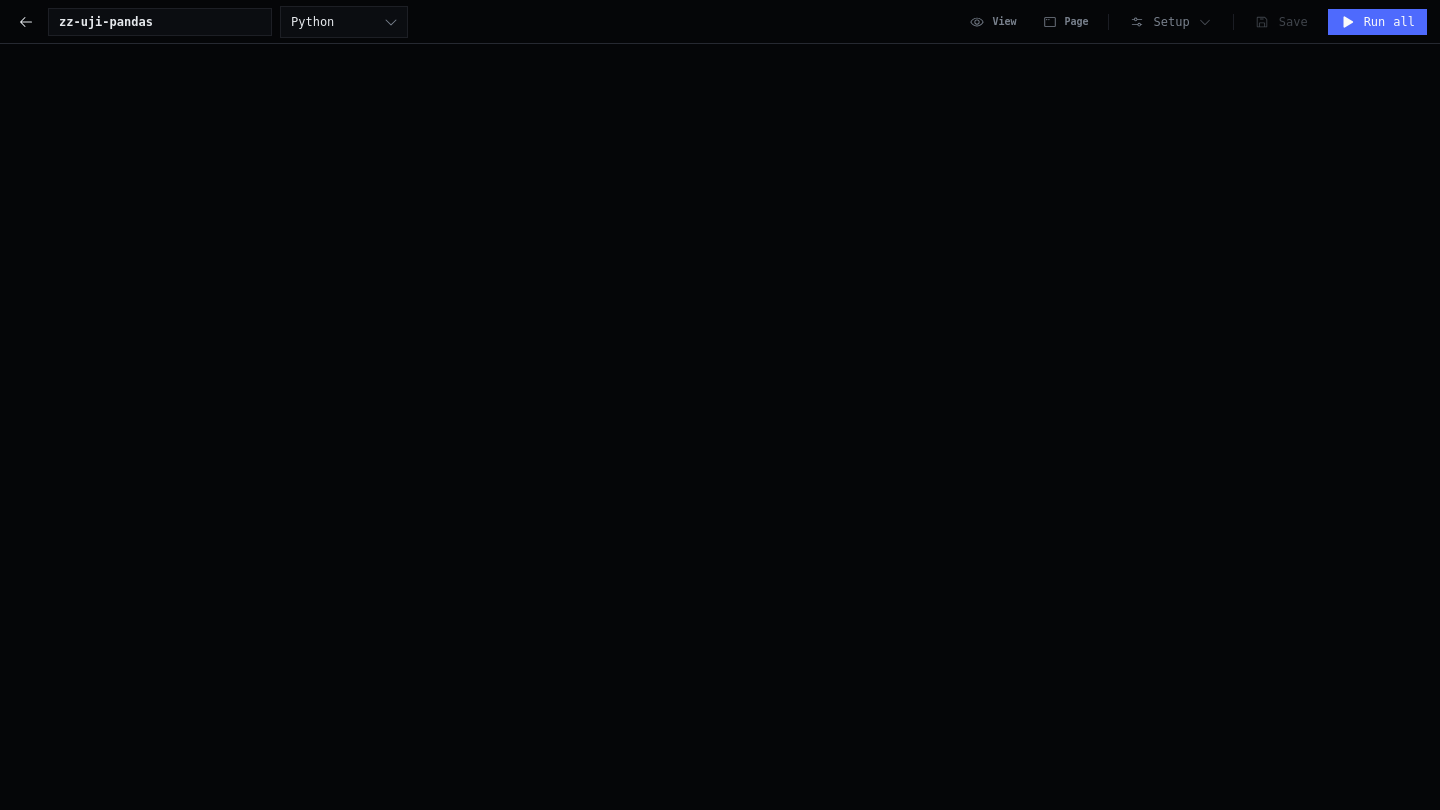
Test: the Setup popover › has a Packages section a person can open
This screenshot has width=1440, height=810.
Click the button "Setup" at coordinates (1171, 22), box [1119,8,1223,36]
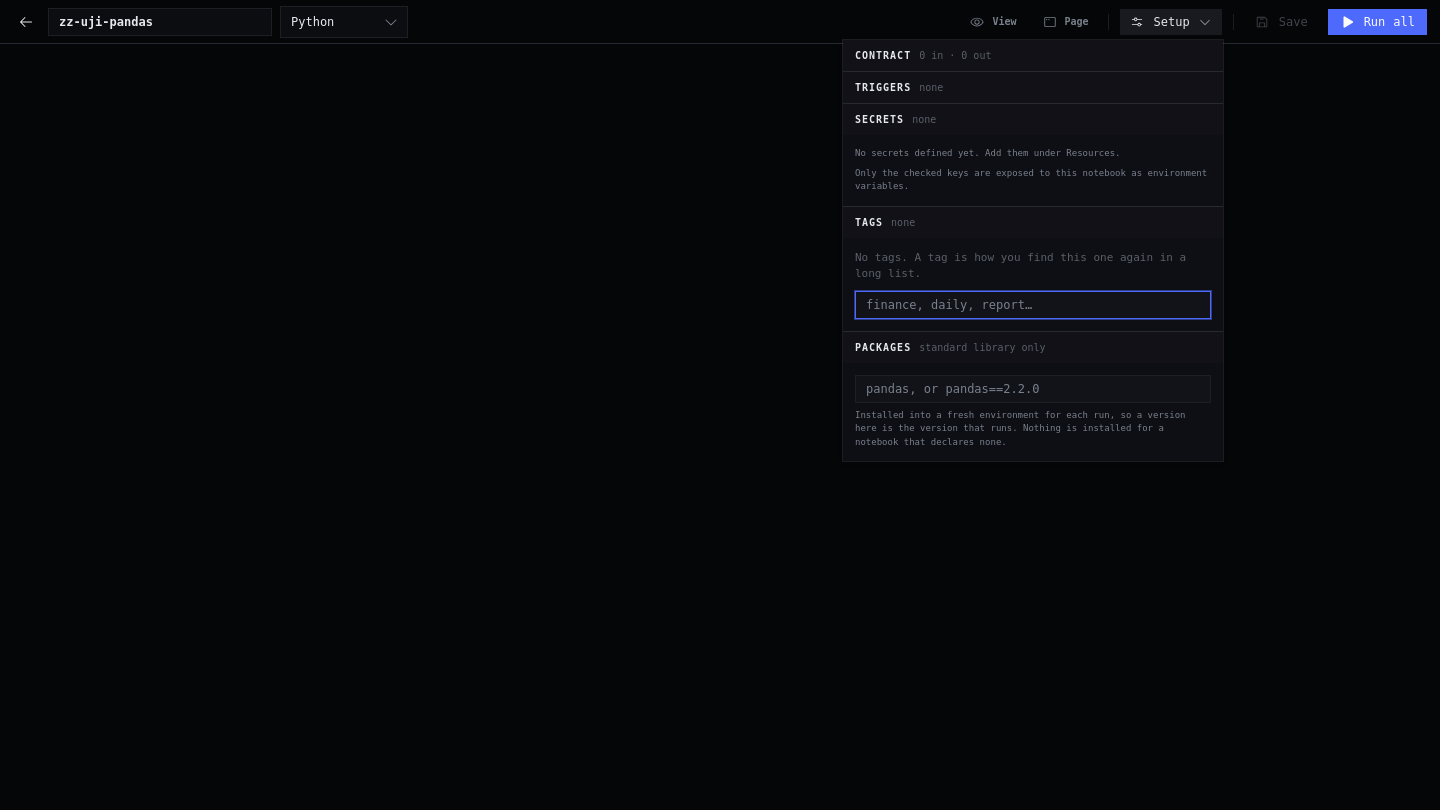
Expected: the heading "Packages" is shown, [855,340,911,354]
Expected: the field named "add a python requirement" is shown, [855,374,1211,402]
